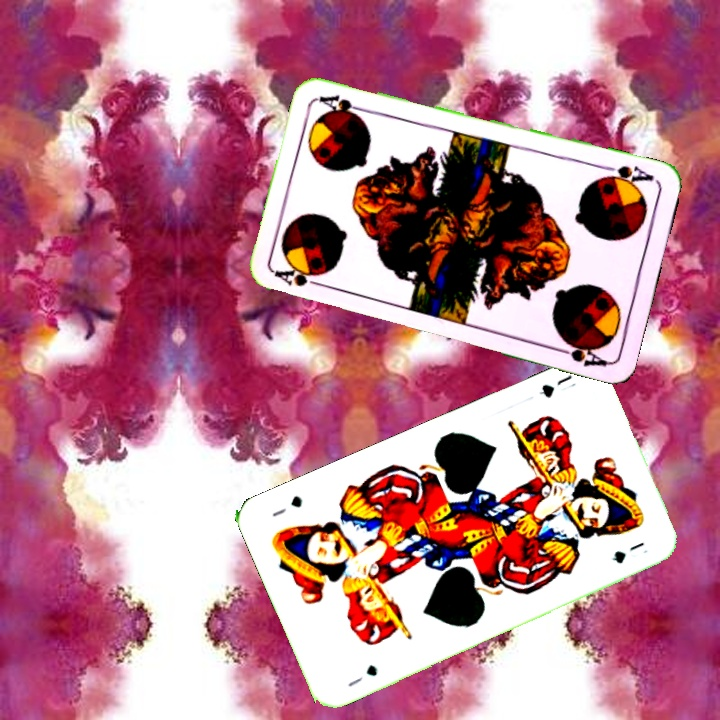GU: (535, 370, 579, 401), (344, 660, 380, 690)
SA: (596, 161, 657, 191), (271, 263, 330, 291)
